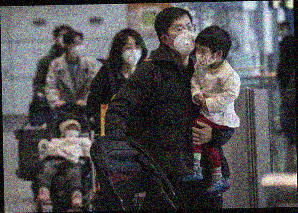with_mask: (168, 20, 197, 56), (121, 40, 143, 67), (193, 43, 215, 66), (69, 39, 86, 57), (65, 124, 81, 139)
